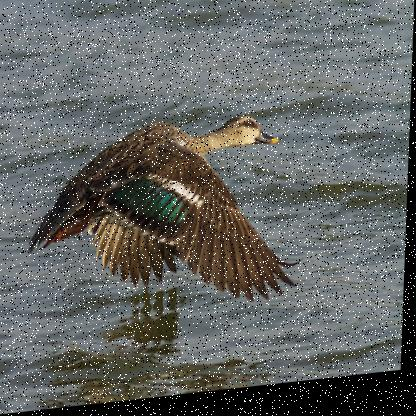Burung: (29, 111, 308, 327)
